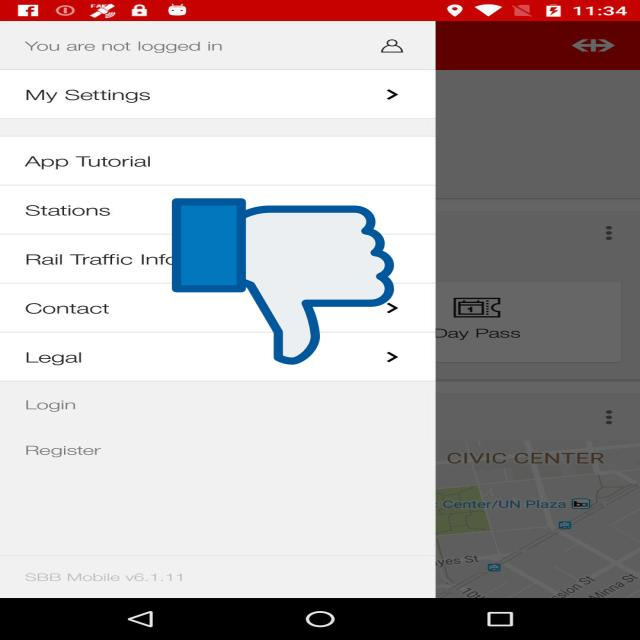obstruction: (172, 195, 394, 368)
